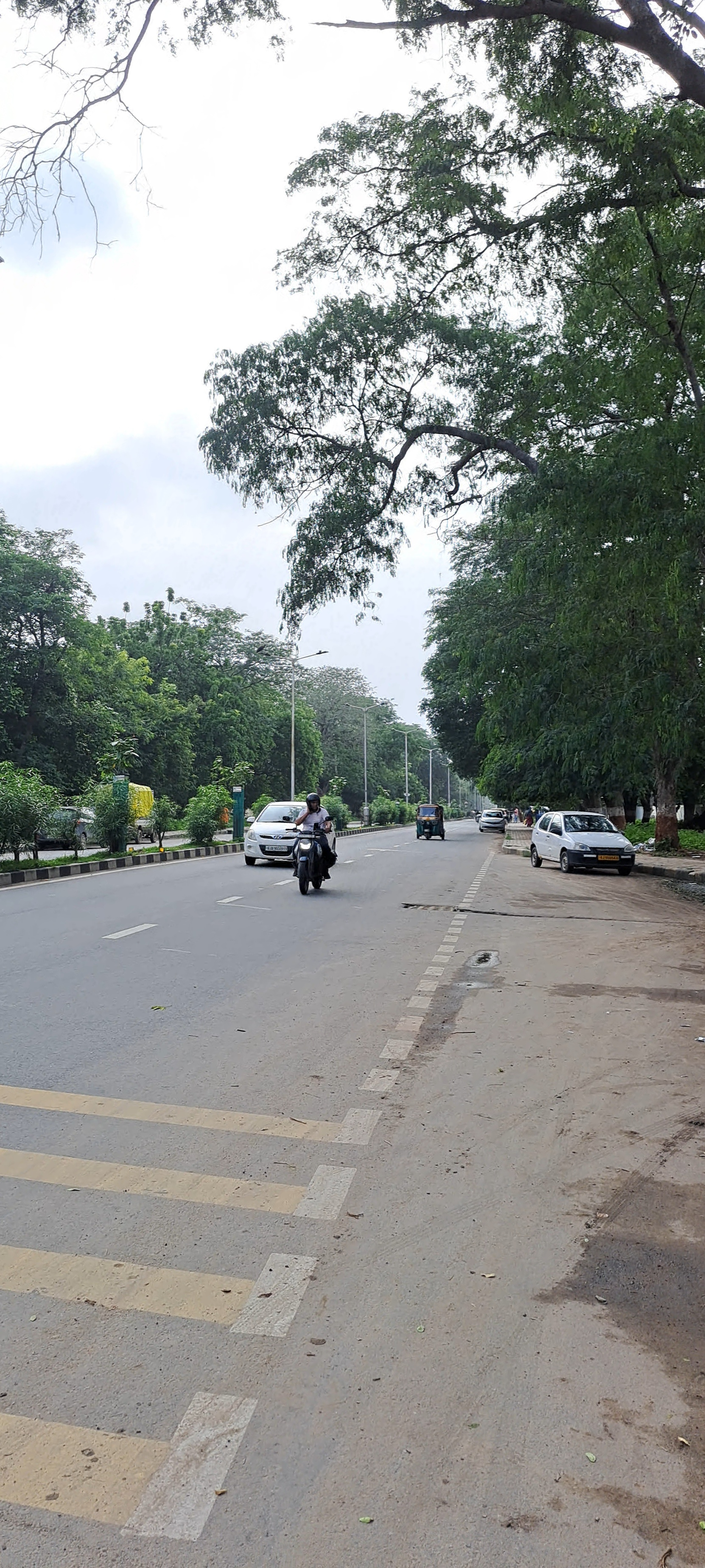BikeWithRider: (280, 787, 348, 899)
Helmet: (305, 791, 322, 814)
